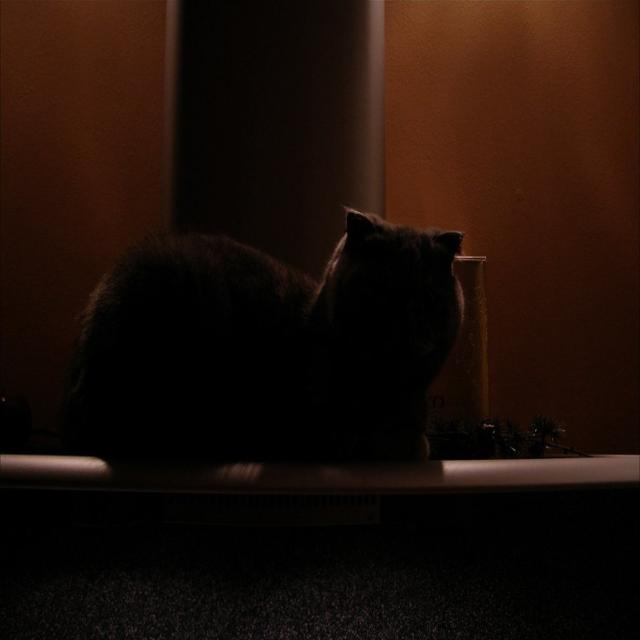Cat: (56, 202, 478, 497)
